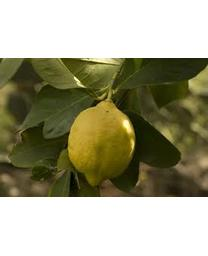lemon: (67, 100, 136, 187)
